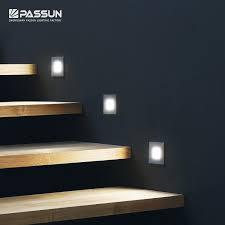Lamp: (144, 138, 168, 172), (98, 89, 122, 118), (51, 55, 71, 86)
